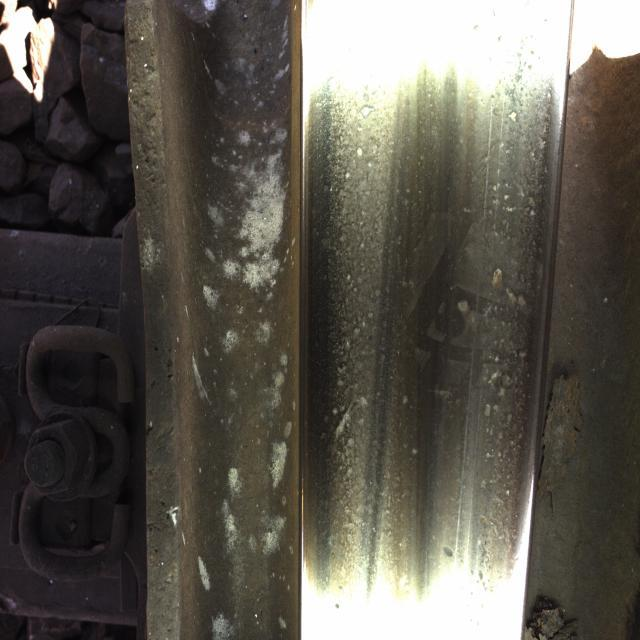scar: (314, 45, 402, 614), (464, 51, 534, 594)
